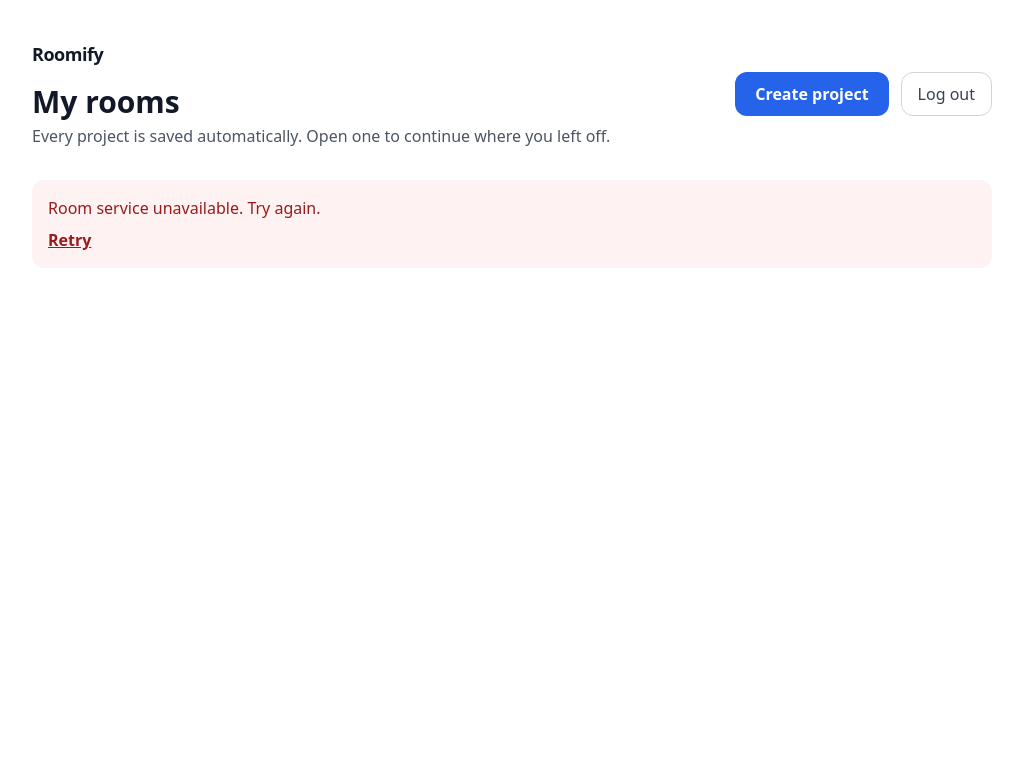
Test: Dashboard (MVP Feature 11) › recovers from a failed load and pages further
Expected: the message shows "Room service unavailable", [48, 197, 320, 219]
Click the button "Retry" at (70, 240), box [48, 228, 91, 252]
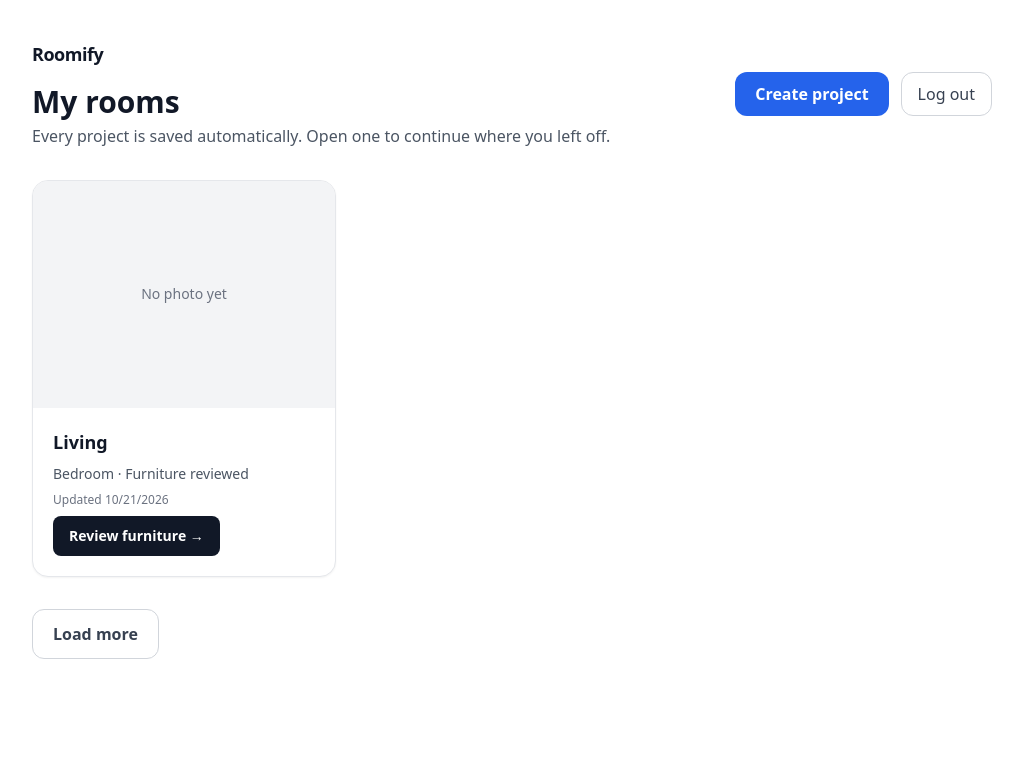
Now the heading "Living" is shown, box [53, 430, 108, 454]
Click the button "Load more" at (95, 634), box [32, 608, 159, 658]
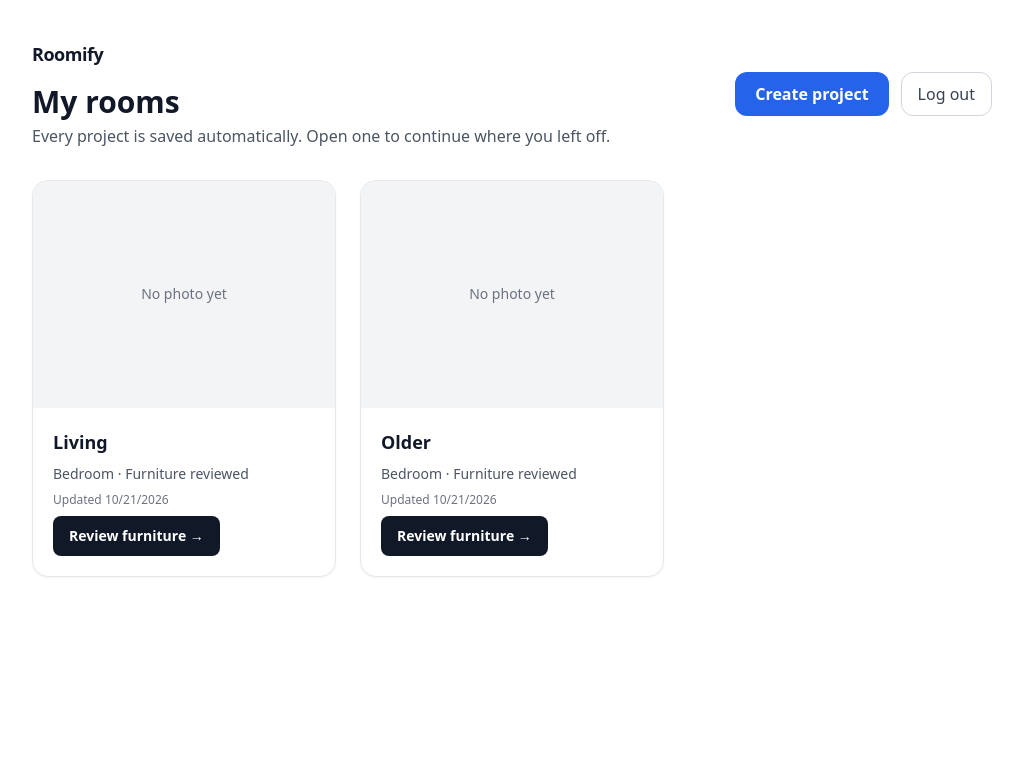
Now the heading "Living" is shown, box [53, 430, 108, 454]
Now the heading "Older" is shown, box [381, 430, 431, 454]
Now the button "Load more" is gone
